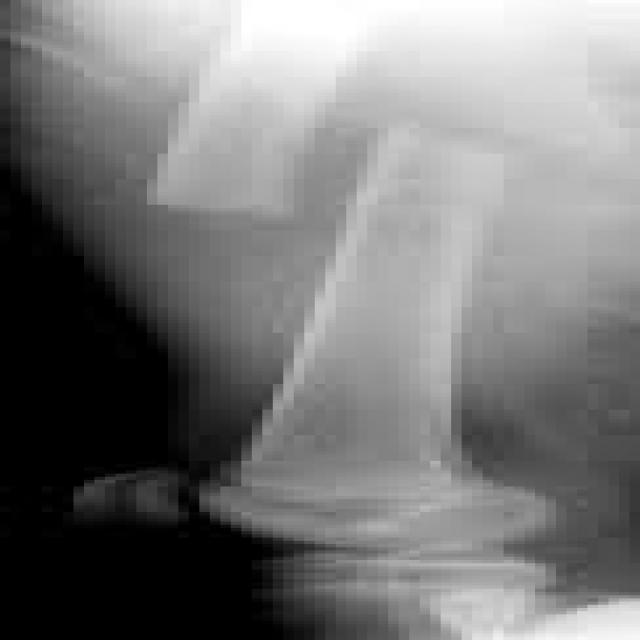Broken: (211, 108, 567, 552), (149, 1, 404, 218)
